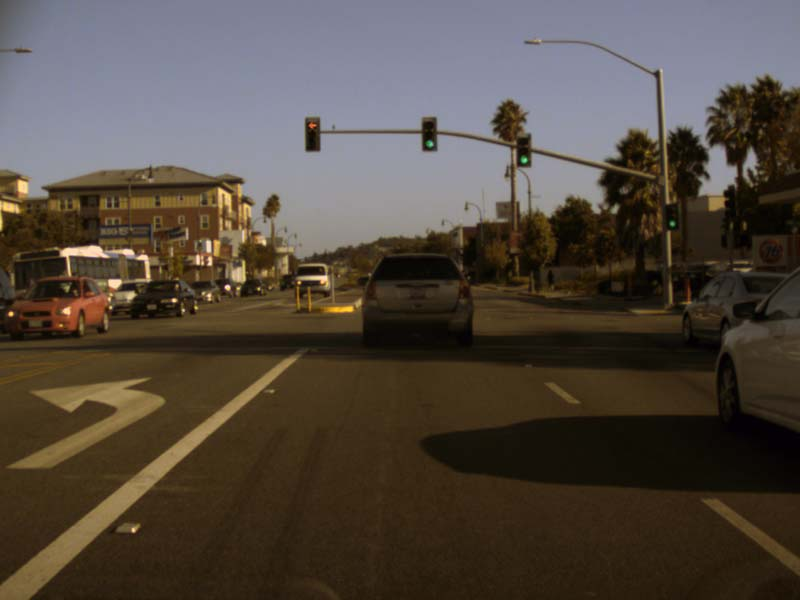Green: (420, 117, 438, 150), (515, 133, 531, 166), (665, 205, 679, 229)
Red: (304, 117, 320, 150)
